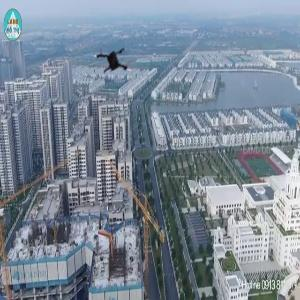drone: (90, 36, 140, 86)
